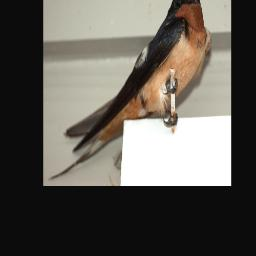Swallow: (47, 0, 207, 176)
